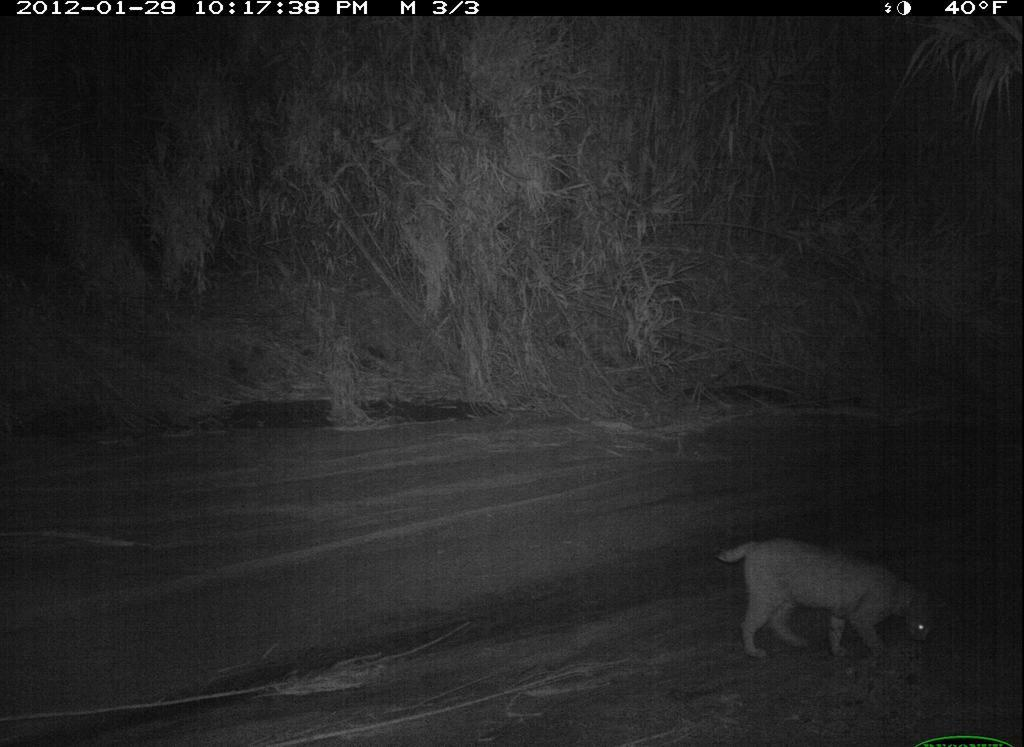bobcat: (715, 529, 944, 669)
